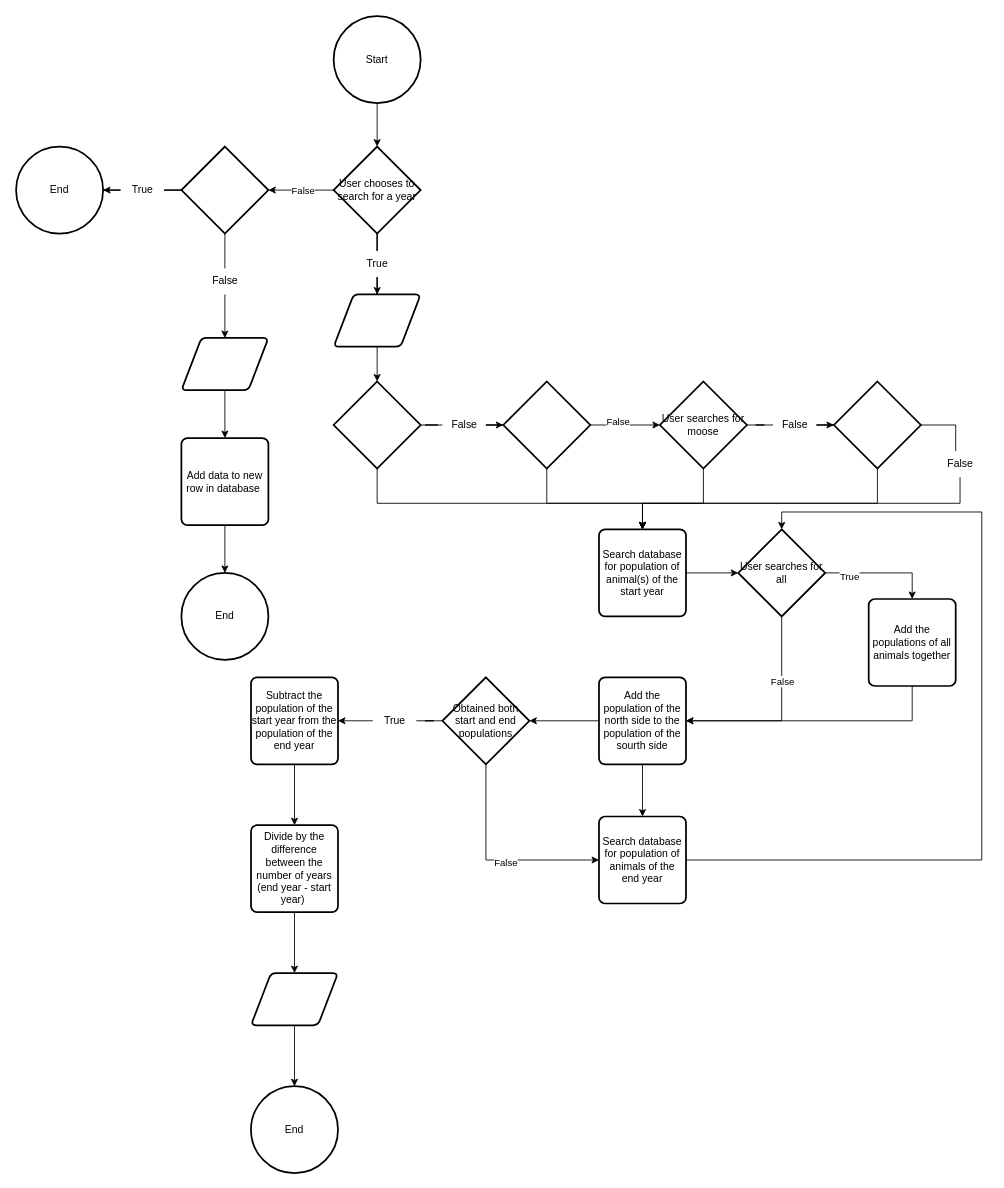
Image size: 1004x1188. Some labels were removed from this diagram. The shapes that lost their labels are listed below. From the top down, each one's box as (x1, y1, x2, y2) in pixels, then its label:
(180, 145, 269, 234): User chooses to exit
(332, 293, 421, 347): User inputs start and end years to search for
(180, 337, 269, 391): User inputs data for each column of the database
(332, 380, 421, 469): User searches for bison
(502, 380, 591, 469): User searches for elk
(833, 380, 921, 469): User searches for deer
(250, 972, 338, 1026): Display growth/year
